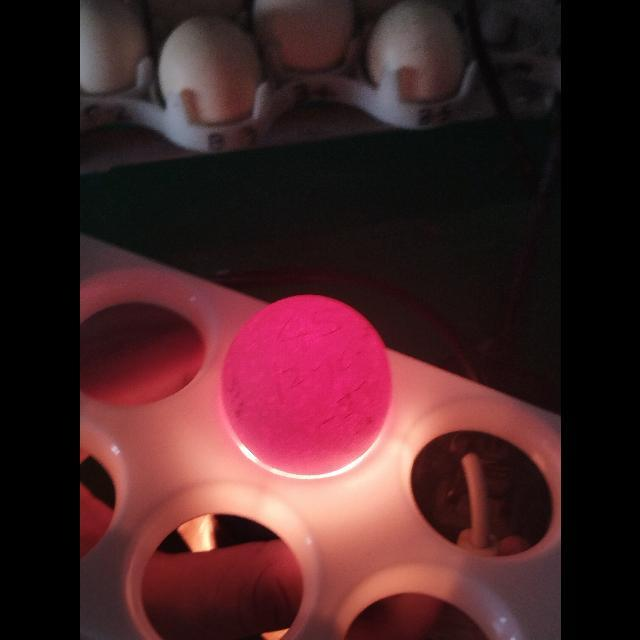Infertile: (218, 292, 396, 478)
